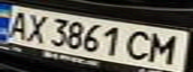1: (100, 25, 124, 57)
3: (45, 16, 72, 48)
6: (81, 21, 103, 54)
8: (63, 18, 84, 52)
A: (3, 8, 33, 41)
C: (124, 28, 157, 62)
M: (145, 30, 187, 65)
X: (21, 11, 51, 44)
